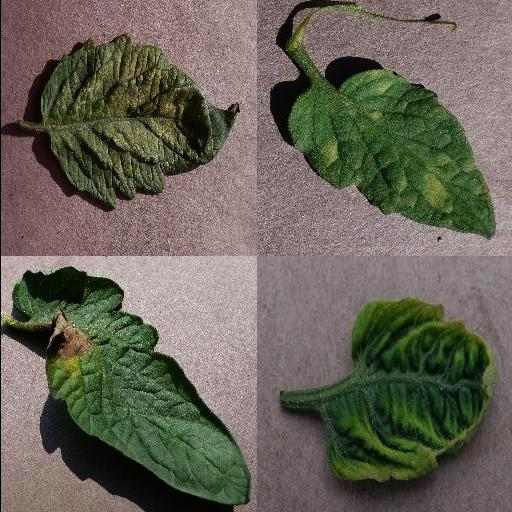Late Blight: (11, 266, 251, 506)
Leaf Mold: (287, 67, 495, 239)
Spider Mites: (38, 34, 240, 208)
Yellow Leaf Curl Virus: (318, 297, 494, 484)
